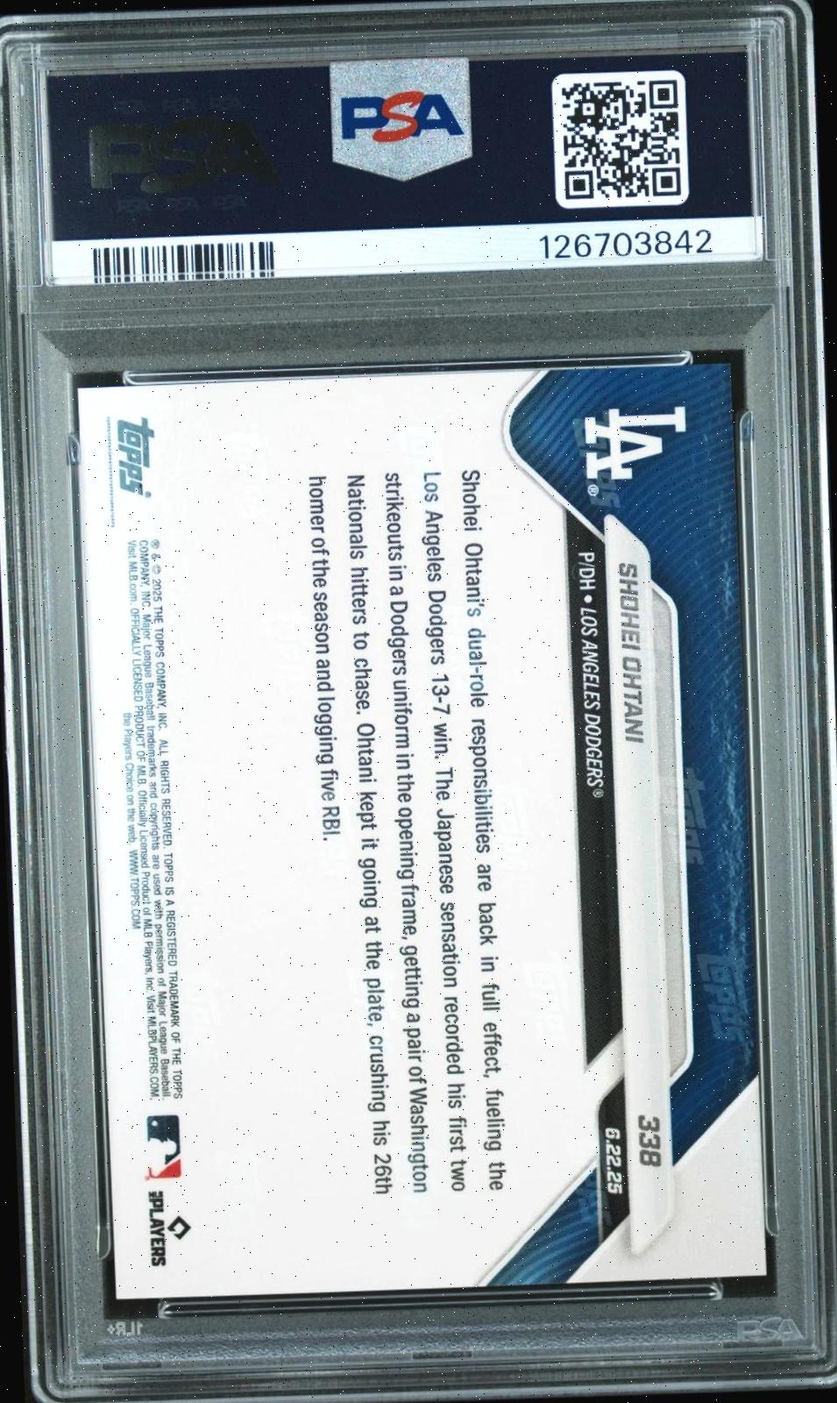card-2UtV: (76, 362, 767, 1300)
